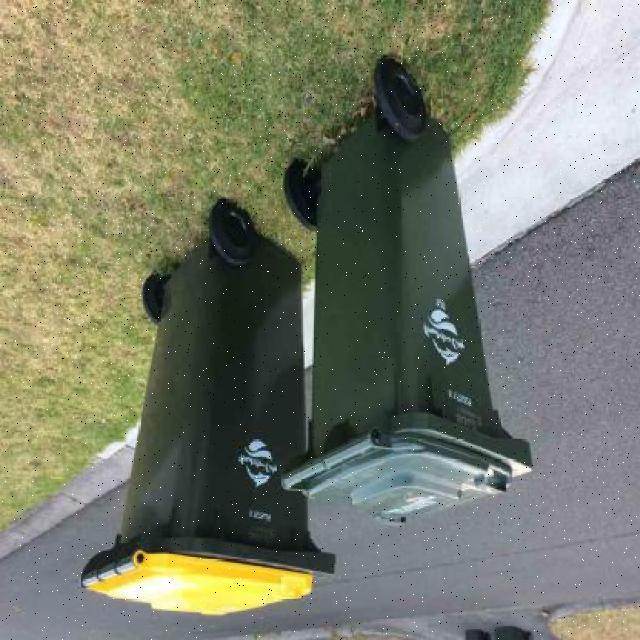garbage container: (278, 47, 539, 530), (77, 194, 343, 625)
